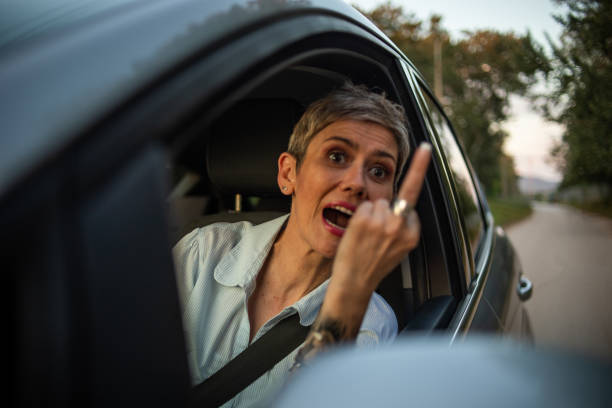insulting_gesture: (334, 142, 434, 294)
